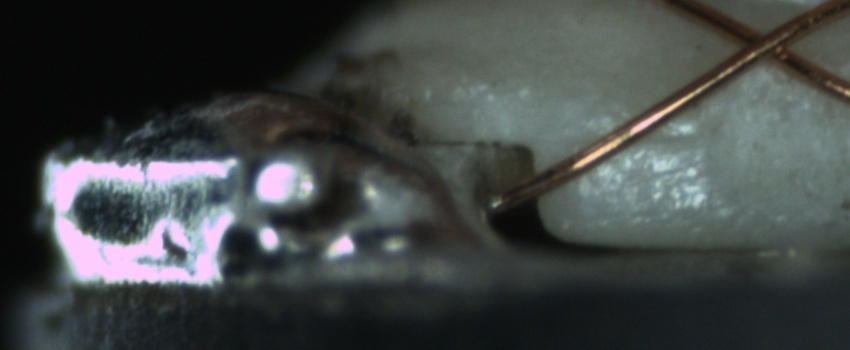CL: (717, 11, 809, 75)
DL: (588, 113, 708, 165)
